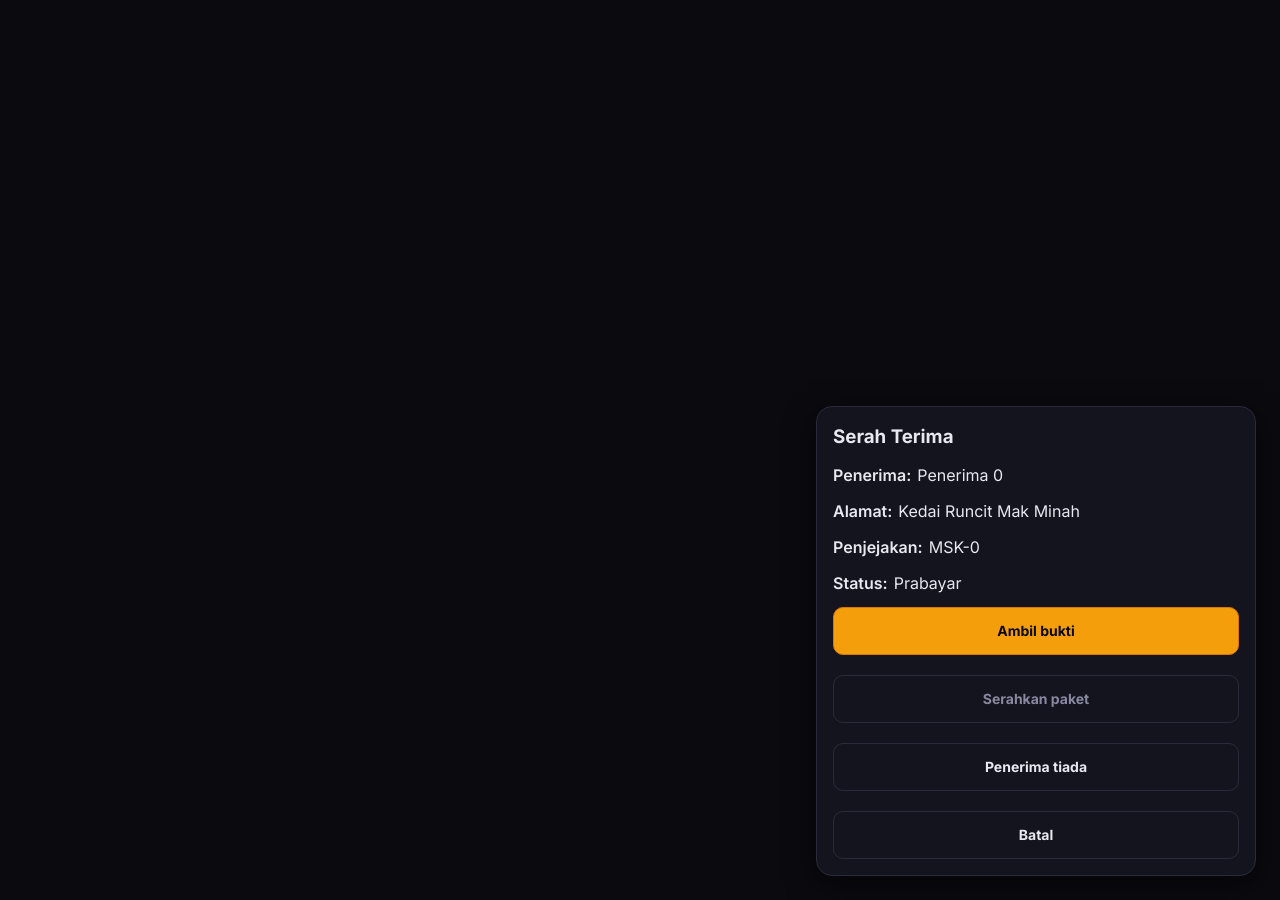
HandoverPanel + stor — wang pemain › serah melalui panel: nama, penjejakan, bukti, kemudian wang bertambah sekali
Later steps or results of the test are not shown.
Check: the button "Serahkan paket" is disabled, box [833,675,1239,723]
What coordinates should you click on to do the following:
click the button "Ambil bukti"
I would click on:
 (1036, 631)
Its box is [833,607,1239,655].
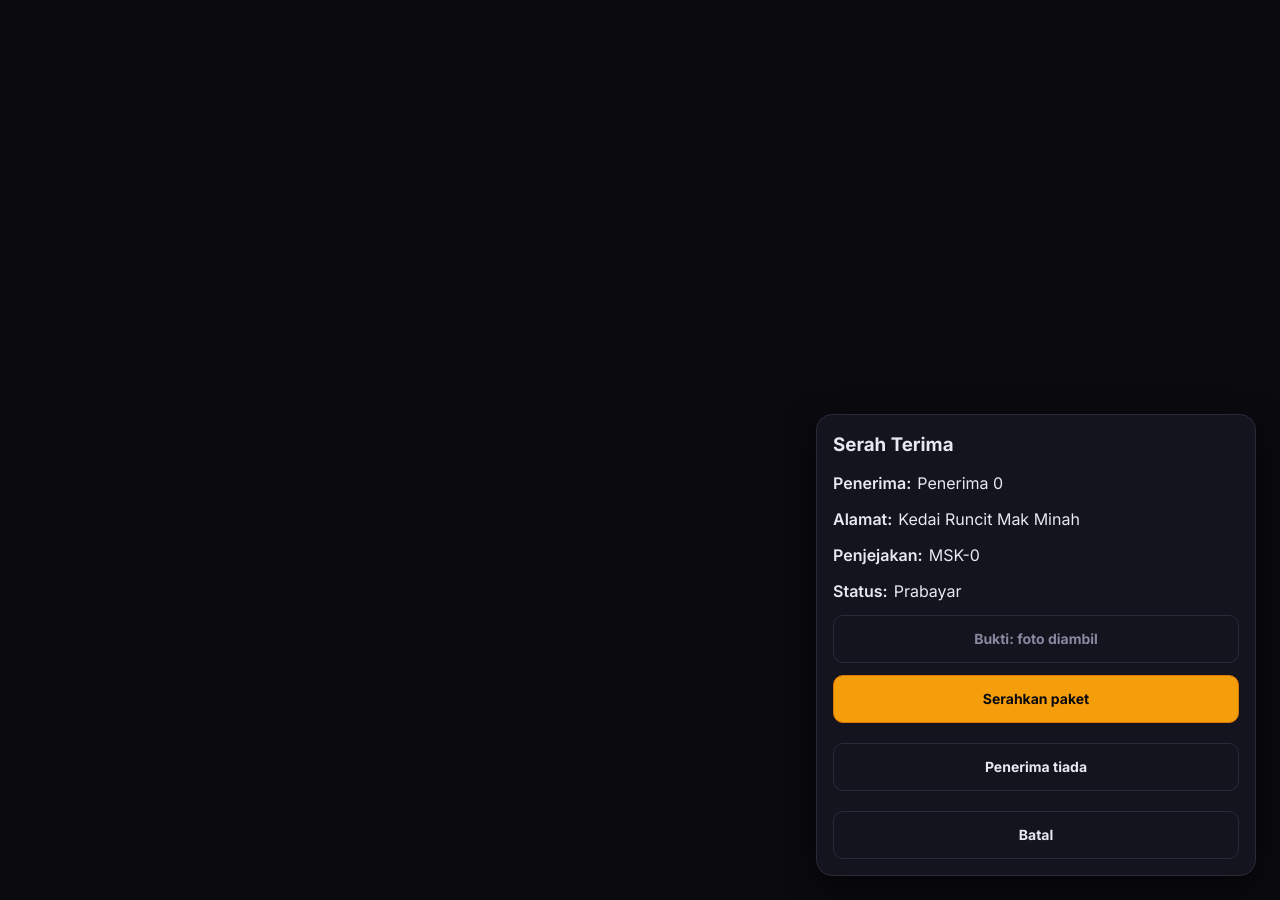
Check: the button "Serahkan paket" is enabled, box [833,675,1239,723]
